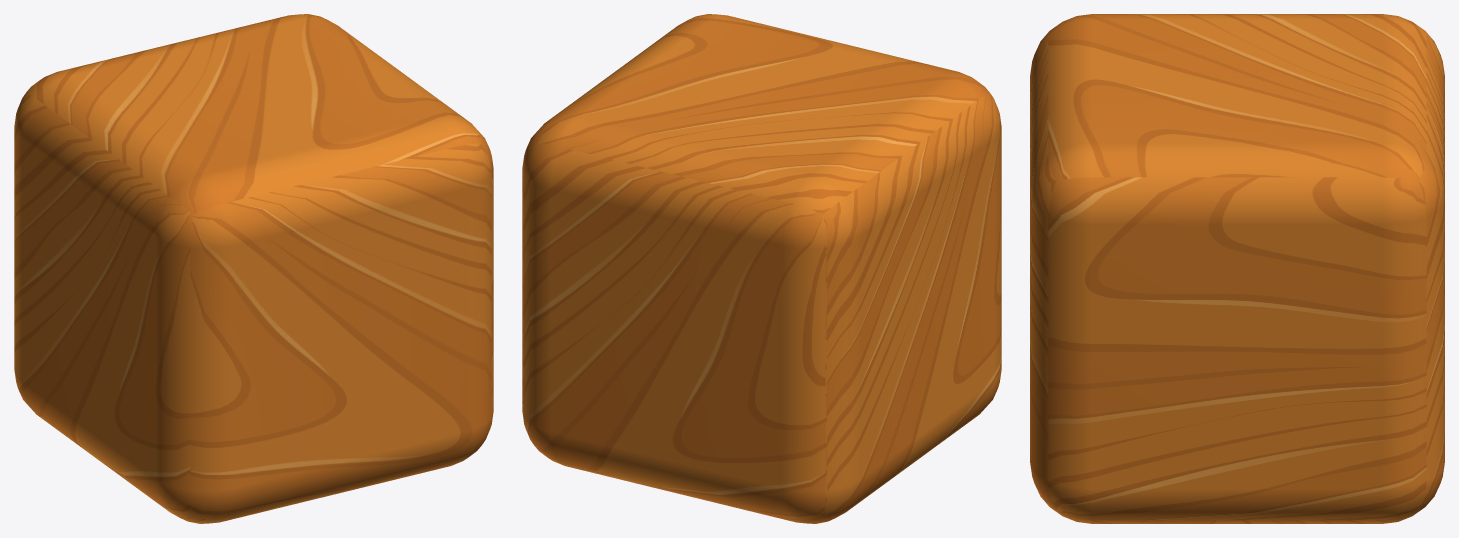
File: Cube long Bevel.fbx
3 renders of one model, left to right at view 1: azimuth 30°, elevation 25°; view 2: azimuth 150°, elevation 25°; view 3: azimuth 270°, elevation 25°, orthographic. The views are drawn at different scales.
Visible parts, largest first — view 1: Cube long Bevel; view 2: Cube long Bevel; view 3: Cube long Bevel.
Part boxes in pixels (<box>): Cube long Bevel: <box>14,14,493,523</box>; Cube long Bevel: <box>522,14,1001,523</box>; Cube long Bevel: <box>1030,14,1444,523</box>.
Bounding box in the file's own units: 200 × 200 × 200.
Materials: 1 (1 with a texture image).
